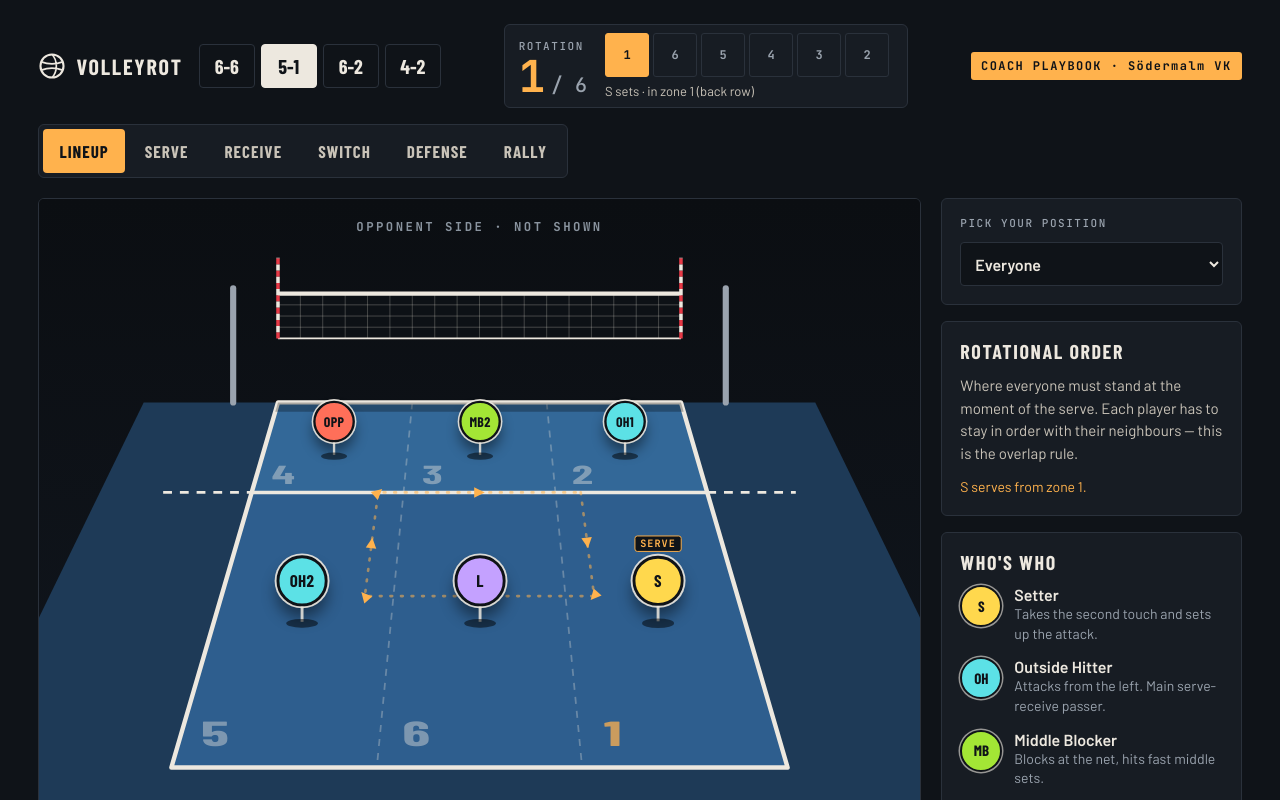
Test: switching to another system leaves the playbook out
Click the button "6-2" at [351, 66], box [323,44,379,88]
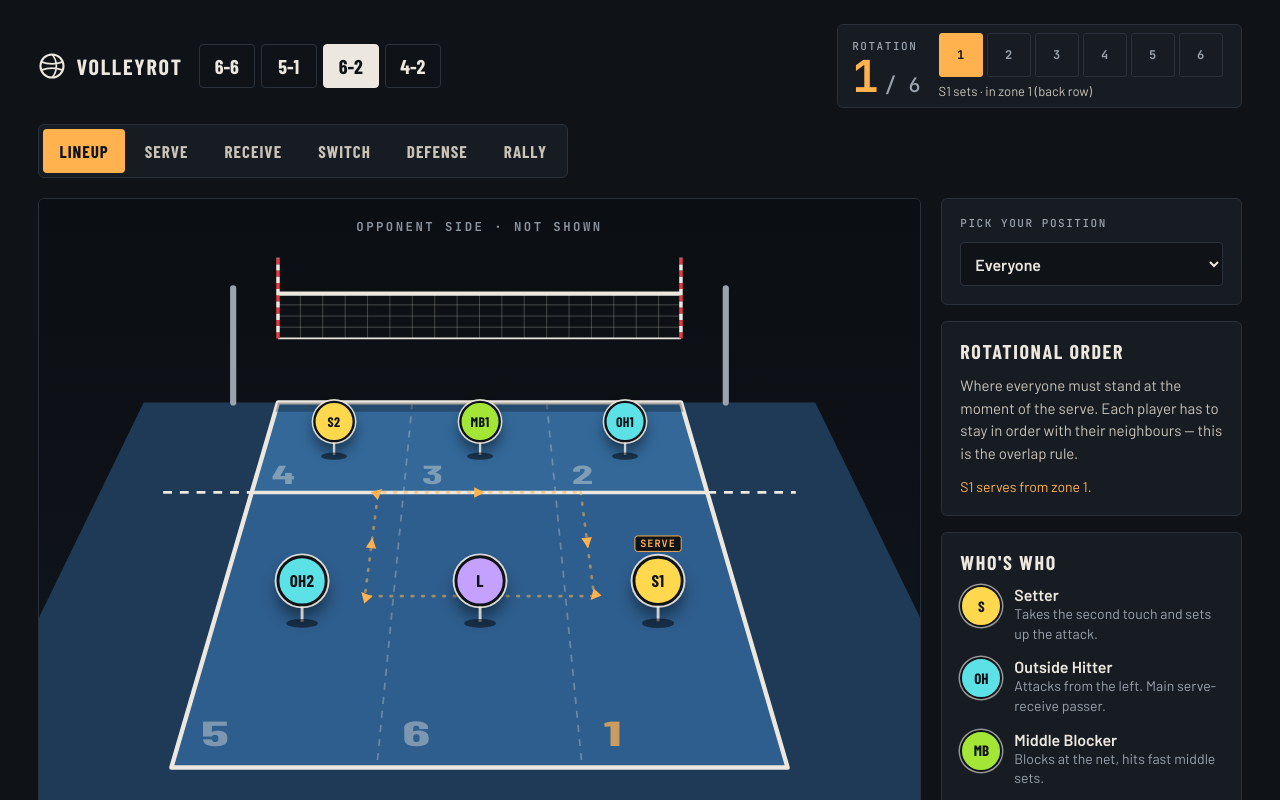
Result: the text "Södermalm VK" is gone
